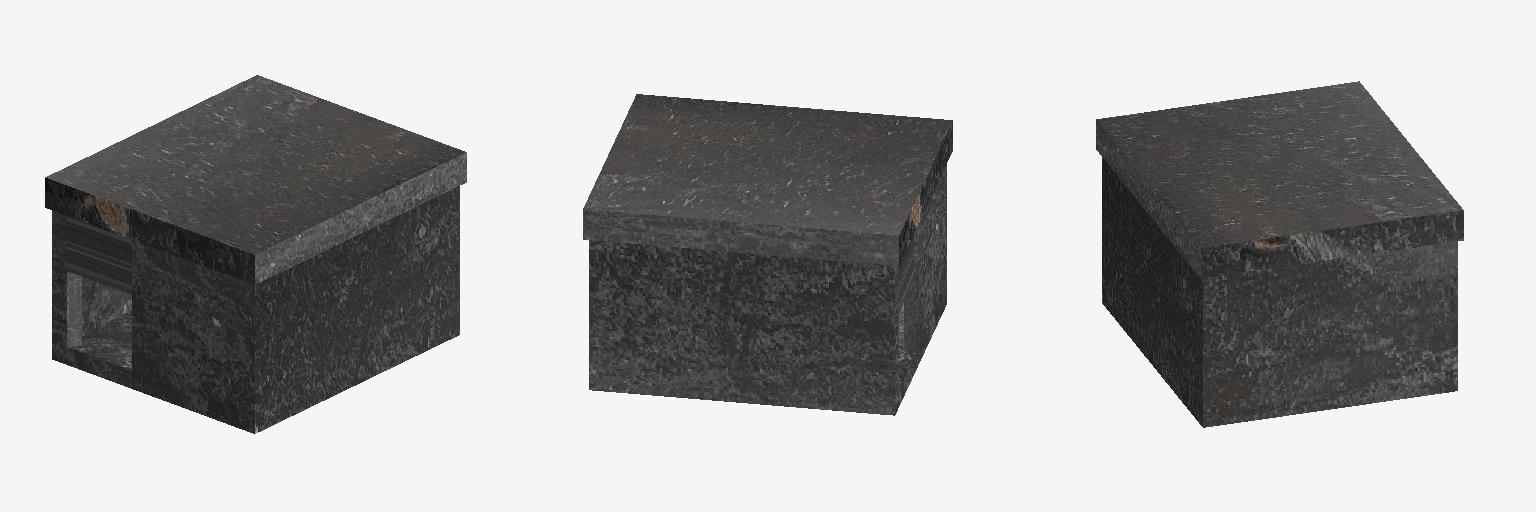
The picture shows the model from 3 angles: view 1: azimuth 30°, elevation 25°; view 2: azimuth 150°, elevation 25°; view 3: azimuth 270°, elevation 25°; orthographic projection.
Parts seen in each view (by area): view 1: Cube.009_Cube.010; view 2: Cube.009_Cube.010; view 3: Cube.009_Cube.010.
Part boxes in pixels (left/top/right/bottom): Cube.009_Cube.010: left=45, top=75, right=466, bottom=433; Cube.009_Cube.010: left=583, top=94, right=952, bottom=415; Cube.009_Cube.010: left=1096, top=81, right=1463, bottom=427.
Size of the model in its own units: 13.41 by 6.83 by 12.48.
Materials: 1 (1 with a texture image).